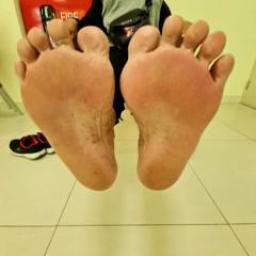Plantar View -Both Feet-: (1, 3, 245, 207)
